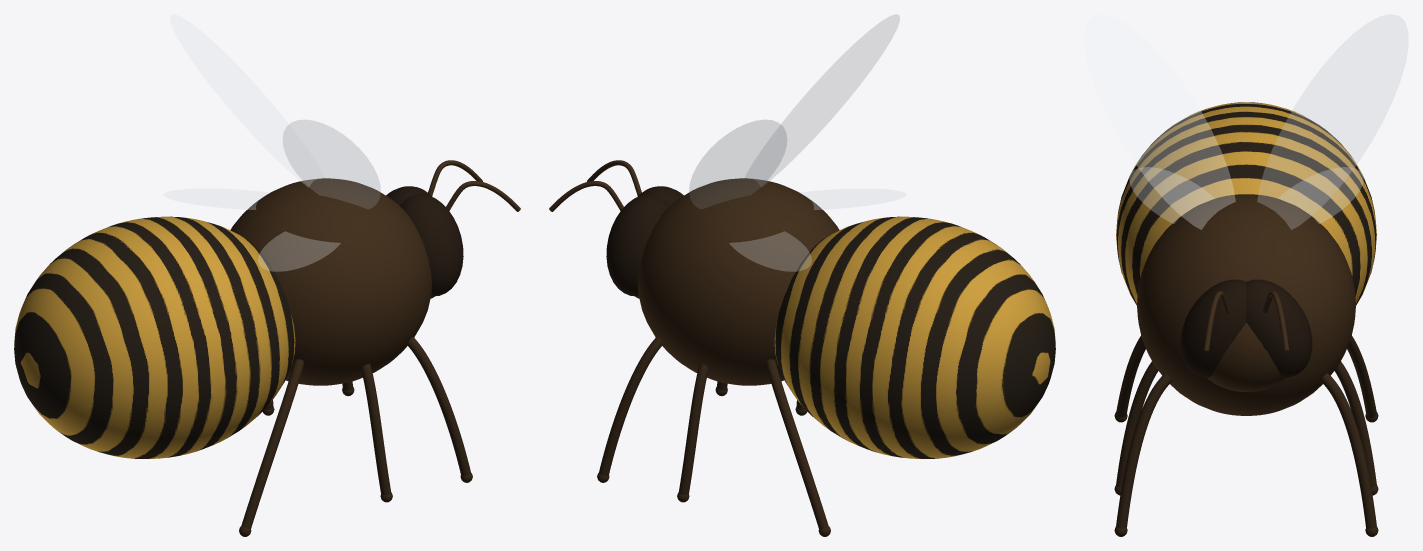
File: bee-hero-cerana-drone-low.glb
3 views of the same model, side by side, from view 1: azimuth 30°, elevation 25°; view 2: azimuth 150°, elevation 25°; view 3: azimuth 270°, elevation 25° (orthographic). The views are drawn at different scales.
Parts seen in each view (by area): view 1: abdomen, thorax, foreWingL, foreWingR, compoundEyeR, hindWingR, hindLegR, foreLegR, hindWingL, midLegR; view 2: abdomen, thorax, foreWingR, foreWingL, compoundEyeL, hindWingL, hindLegL, foreLegL, hindWingR, midLegL; view 3: thorax, abdomen, foreWingL, foreWingR, compoundEyeL, compoundEyeR, head, hindWingL, hindWingR, foreLegL, foreLegR, midLegL (+5 smaller).
Boxes of the visible parts, x1=… form: abdomen: x1=14, y1=216, x2=295, y2=458; thorax: x1=230, y1=178, x2=431, y2=385; foreWingL: x1=170, y1=14, x2=324, y2=186; foreWingR: x1=283, y1=120, x2=380, y2=208; compoundEyeR: x1=400, y1=194, x2=463, y2=296; hindWingR: x1=258, y1=231, x2=340, y2=271; hindLegR: x1=241, y1=359, x2=304, y2=529; foreLegR: x1=407, y1=337, x2=470, y2=476; hindWingL: x1=163, y1=189, x2=269, y2=209; midLegR: x1=361, y1=364, x2=391, y2=495; abdomen: x1=774, y1=216, x2=1055, y2=458; thorax: x1=638, y1=178, x2=839, y2=385; foreWingR: x1=745, y1=14, x2=899, y2=186; foreWingL: x1=689, y1=120, x2=786, y2=208; compoundEyeL: x1=606, y1=194, x2=669, y2=296; hindWingL: x1=729, y1=231, x2=811, y2=271; hindLegL: x1=765, y1=359, x2=828, y2=529; foreLegL: x1=599, y1=337, x2=662, y2=476; hindWingR: x1=800, y1=189, x2=906, y2=209; midLegL: x1=678, y1=364, x2=708, y2=495; thorax: x1=1137, y1=194, x2=1355, y2=415; abdomen: x1=1116, y1=102, x2=1376, y2=305; foreWingL: x1=1257, y1=14, x2=1408, y2=229; foreWingR: x1=1084, y1=14, x2=1235, y2=229; compoundEyeL: x1=1246, y1=279, x2=1312, y2=378; compoundEyeR: x1=1180, y1=279, x2=1246, y2=378; head: x1=1207, y1=323, x2=1285, y2=391; hindWingL: x1=1278, y1=167, x2=1363, y2=223; hindWingR: x1=1129, y1=167, x2=1214, y2=223; foreLegL: x1=1320, y1=373, x2=1376, y2=528; foreLegR: x1=1116, y1=373, x2=1172, y2=528; midLegL: x1=1334, y1=361, x2=1376, y2=487.
Size of the model in its own units: 1.11 by 0.9195 by 0.6213.
Materials: 5 (1 with a texture image).
